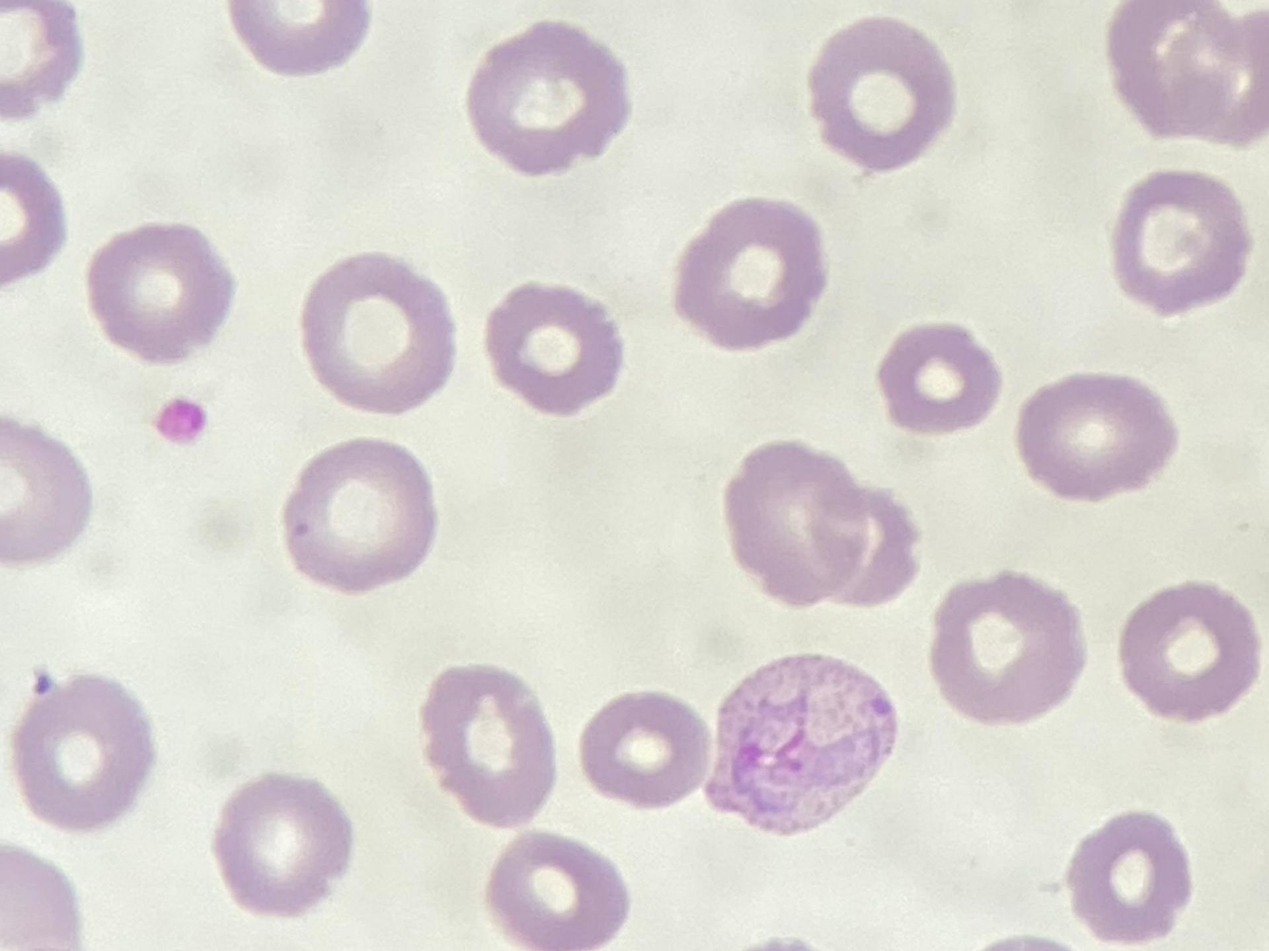Infected: (375, 111, 568, 298)
Uninfected: (813, 537, 972, 694), (180, 222, 341, 377), (402, 339, 546, 512), (638, 774, 796, 928), (833, 356, 986, 514), (443, 598, 594, 752), (314, 777, 459, 935), (712, 123, 851, 284), (93, 450, 255, 580), (912, 32, 1058, 176), (1036, 589, 1184, 730), (1115, 119, 1250, 273), (15, 635, 156, 779), (8, 230, 148, 365), (644, 534, 783, 669), (76, 5, 204, 138), (636, 0, 781, 114), (560, 142, 692, 259), (345, 342, 471, 457), (271, 509, 383, 627), (1188, 820, 1269, 951), (902, 873, 1036, 951)
